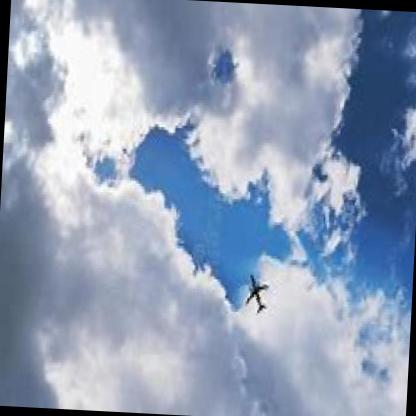plane: (240, 269, 276, 324)
